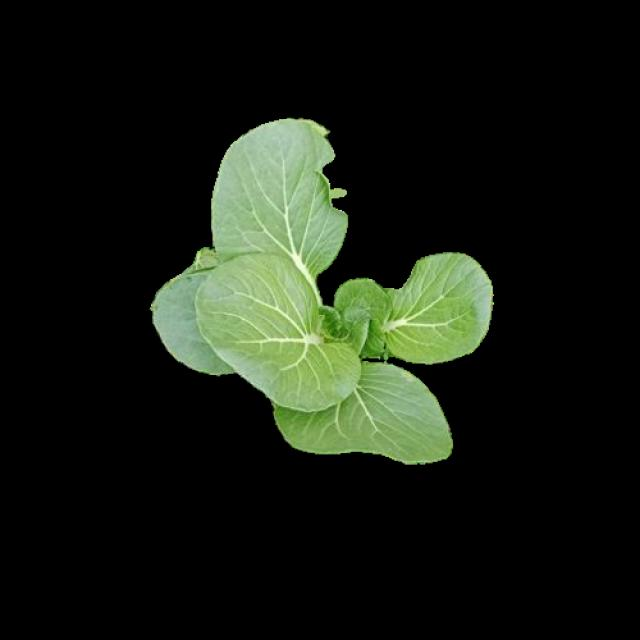not-mature: (154, 119, 490, 462)
unhealthy: (212, 120, 350, 279)
